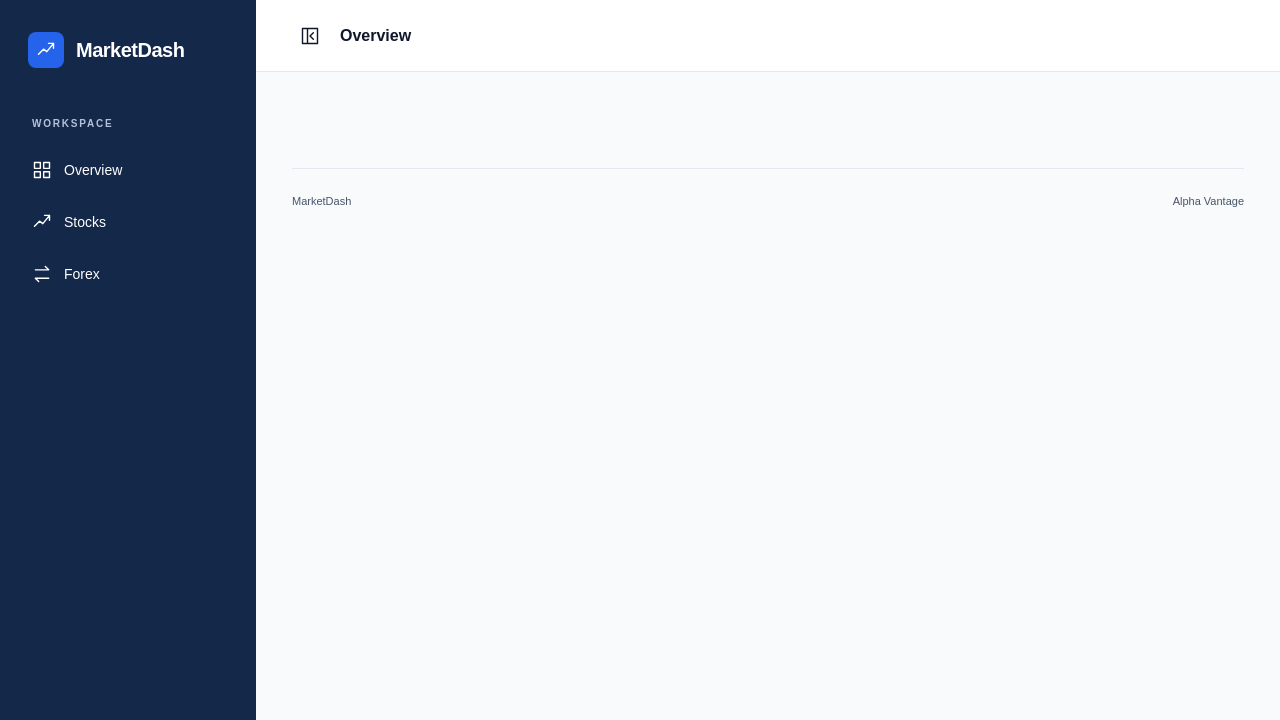
Test case: Dashboard sidebar navigation › collapses to an icon rail, expands content, and restores labels
This screenshot has width=1280, height=720.
Click the button named "Collapse sidebar" at (310, 36), box [292,18,328,54]
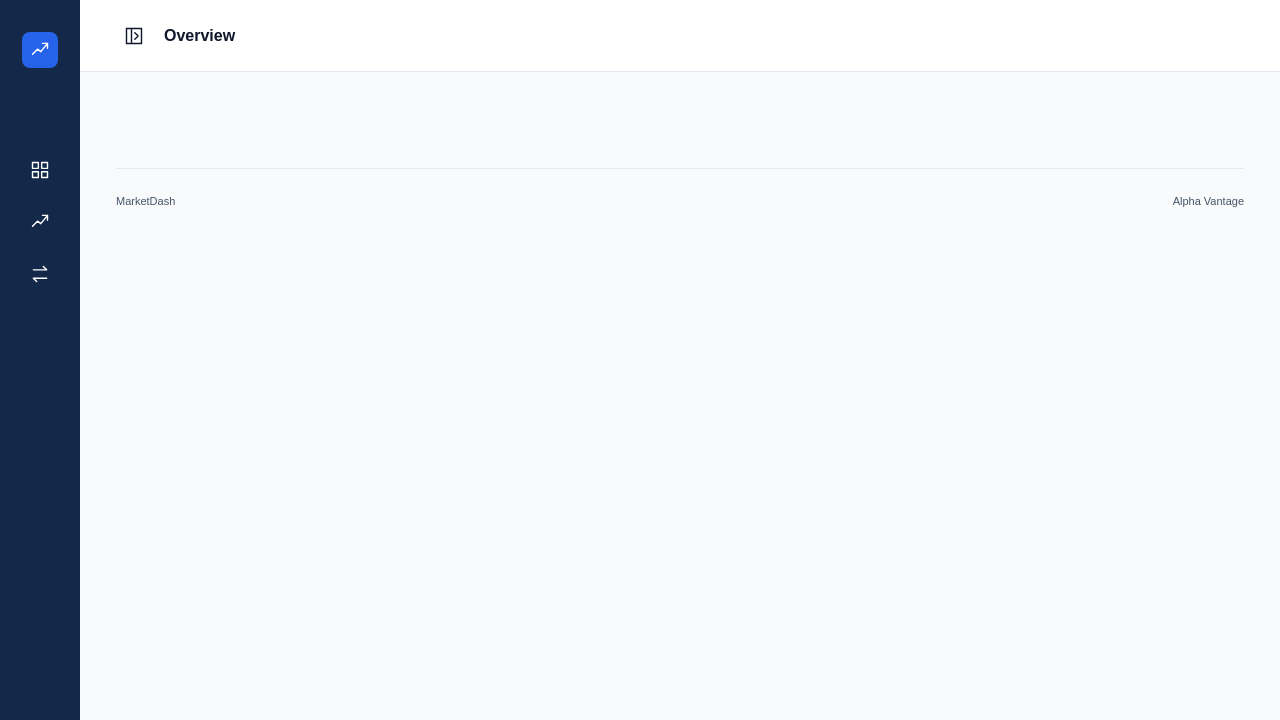
Check: the text with id "desktop-navigation" no longer shows "Workspace"
Click the button named "Expand sidebar" at (134, 36), box [116,18,152,54]
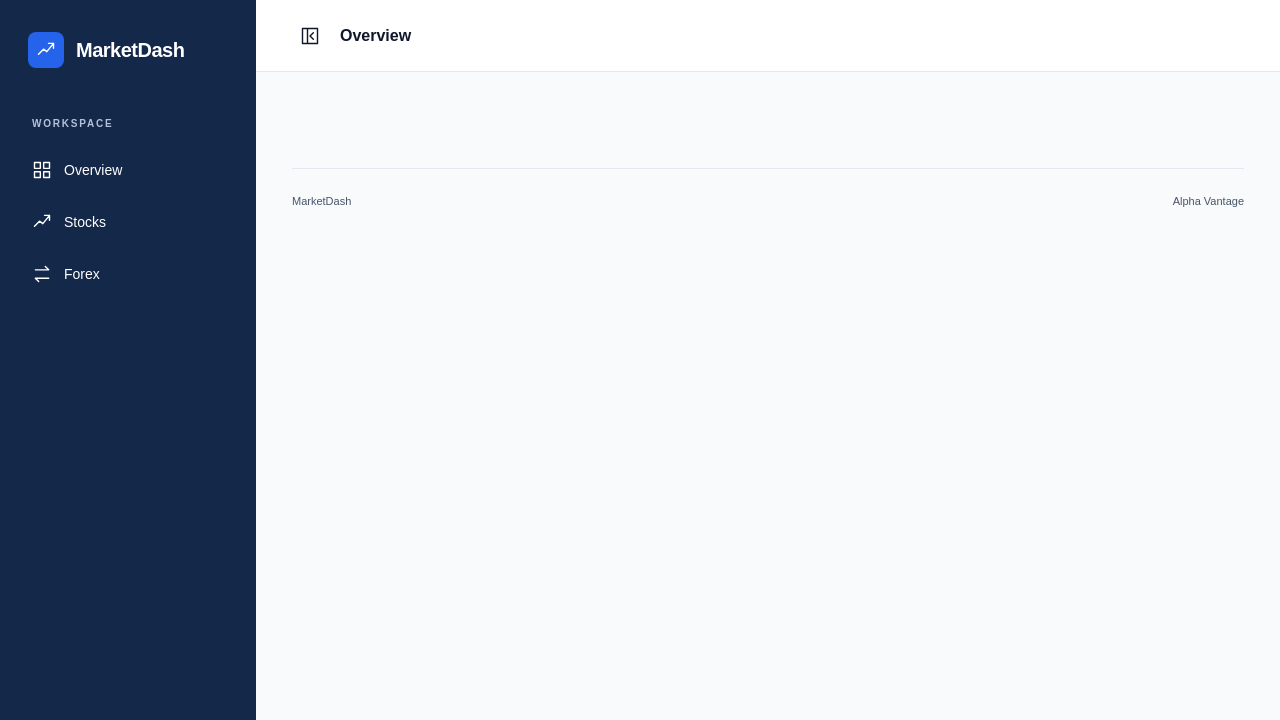
Check: the element with id "desktop-navigation" shows "MarketDash", box [20,32,236,68]
Check: the element with id "desktop-navigation" shows "Stocks", box [20,200,236,244]
